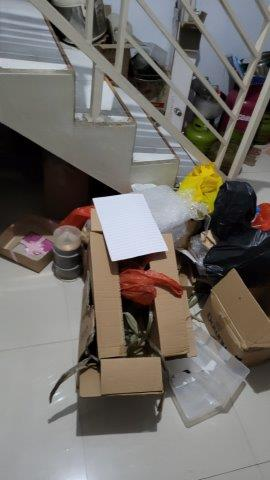kertas: (91, 192, 168, 262)
